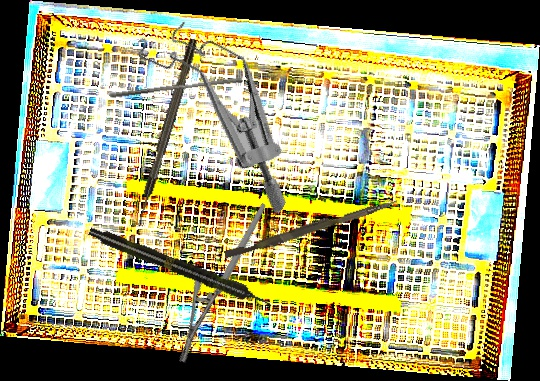Handpiece: (86, 223, 275, 313)
Hook Surgical: (132, 37, 200, 229)
Needle Holder: (139, 202, 307, 366)
Pusher: (223, 193, 399, 263), (109, 72, 243, 104)
Speculum: (97, 4, 340, 217)
